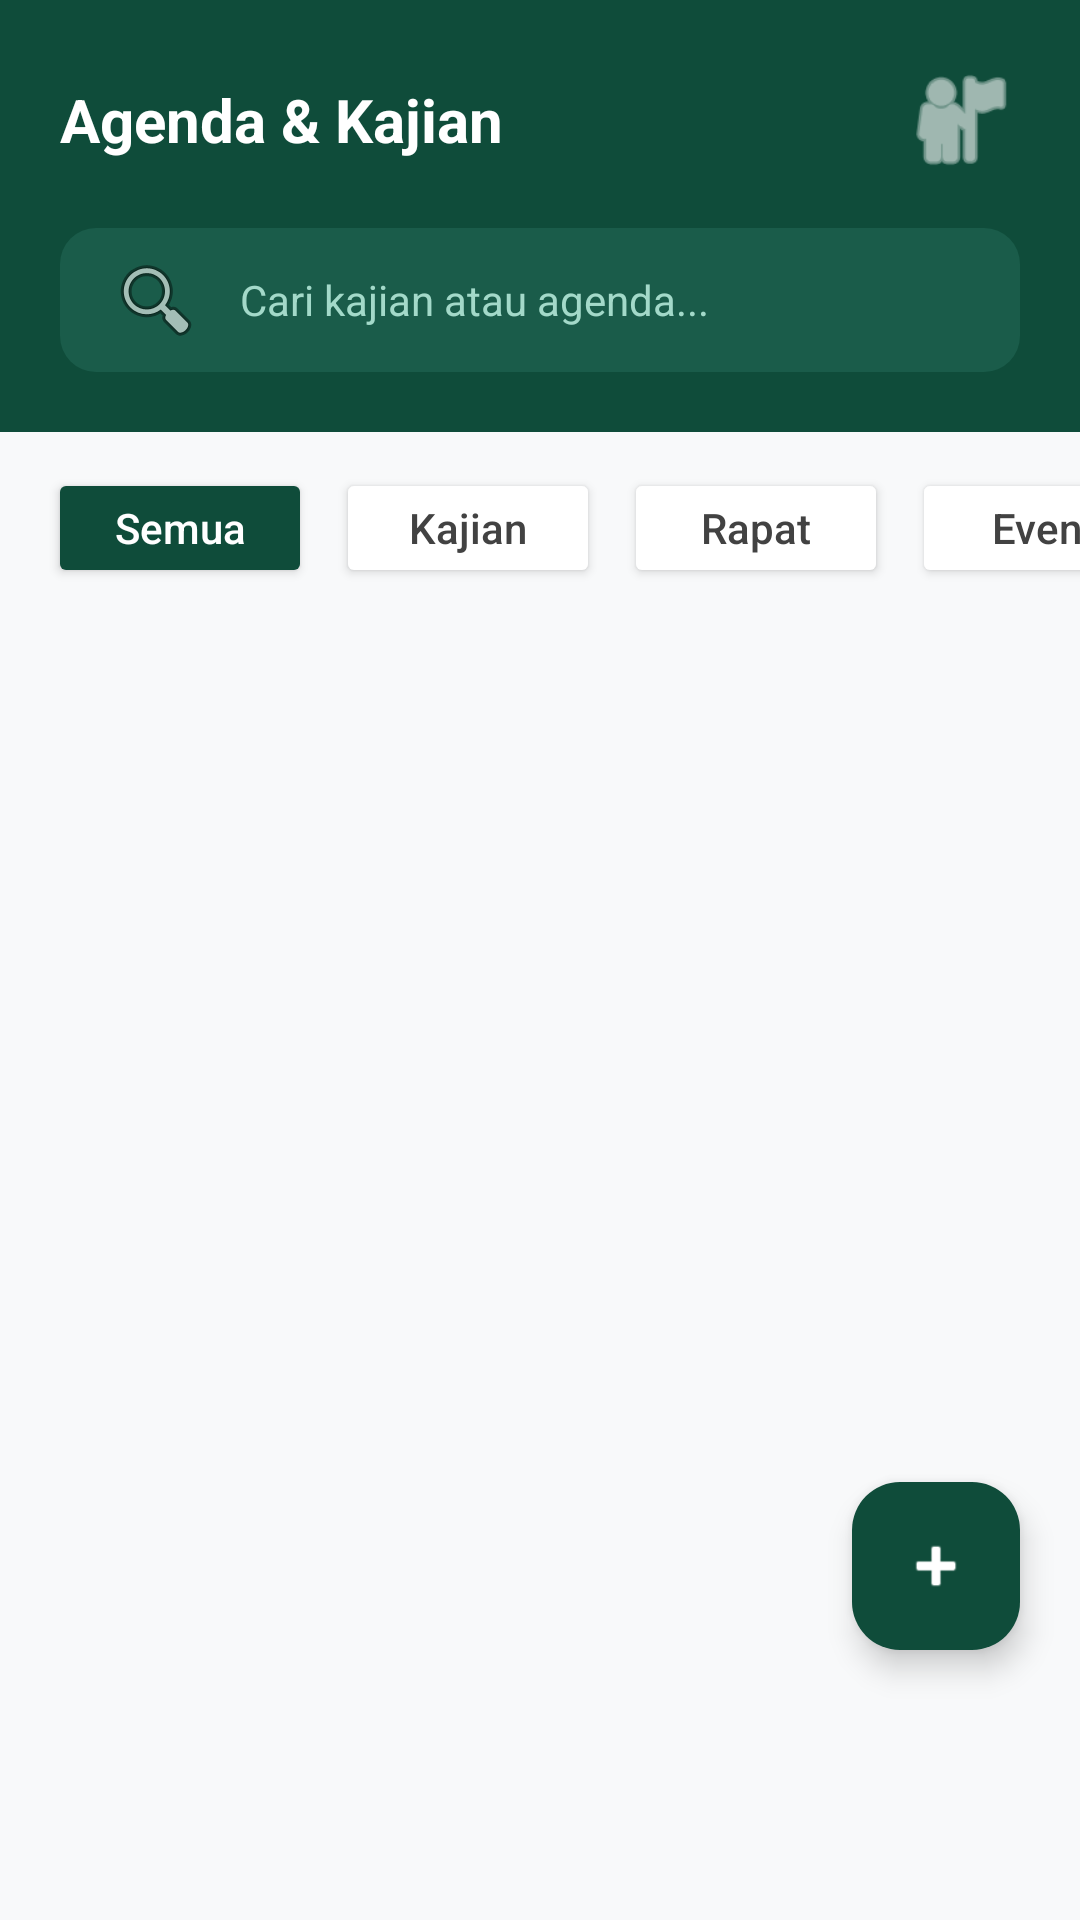

Where icons sit on this 1080*1920 app screen, as [left=x1, top=y1, right=x2, bottom=y2]:
myplaces: [left=916, top=75, right=1006, bottom=165]
Tambah Agenda: [left=852, top=1482, right=1020, bottom=1650]
